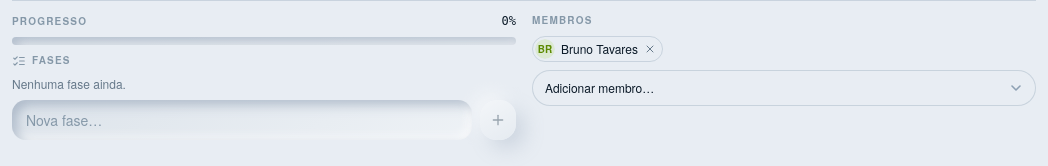
Test: ProjectDetailPanel › adds a member from the picker
Expected: the text "Bruno Tavares" is shown, [561, 40, 638, 57]
Select "Larissa Mendonça" in the dropdown named "adicionar membro" at coordinates (784, 88), box [532, 70, 1036, 106]
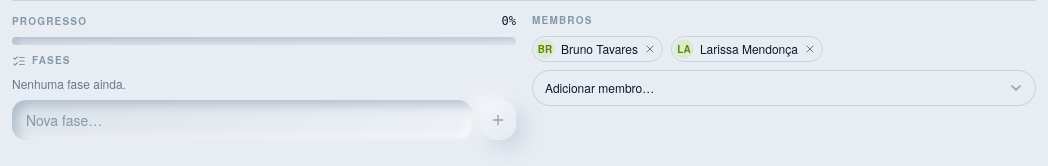
Now the text "Larissa Mendonça" is shown, box [700, 40, 798, 57]
